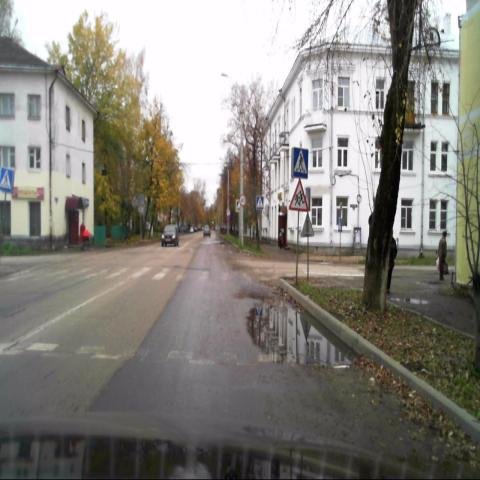1_23: (288, 179, 309, 212)
5_19_1: (292, 146, 309, 179), (0, 166, 15, 192)
